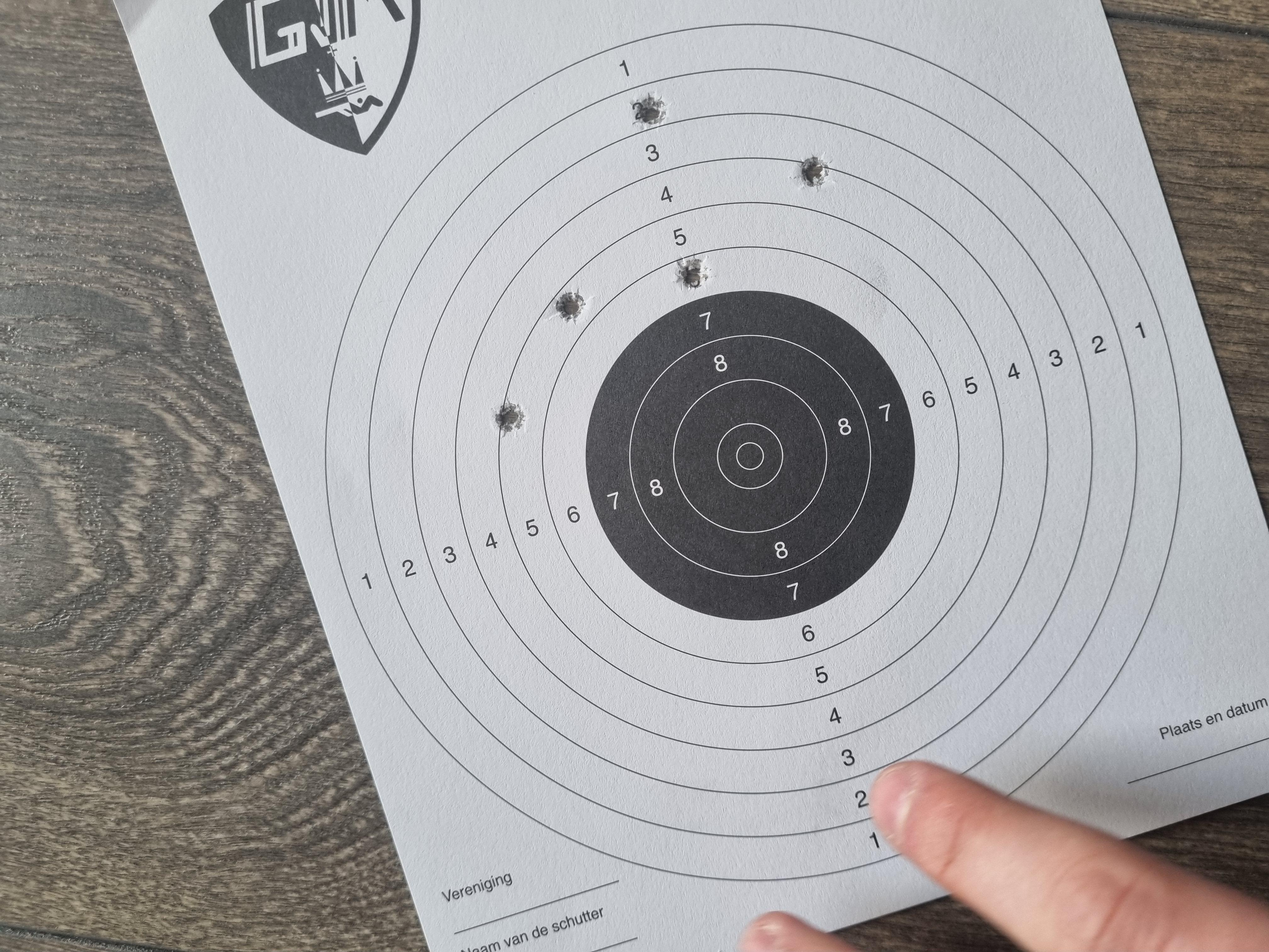hole: (883, 505, 930, 533), (686, 371, 739, 393), (1101, 475, 1146, 499), (1017, 599, 1061, 622), (840, 416, 885, 438)
